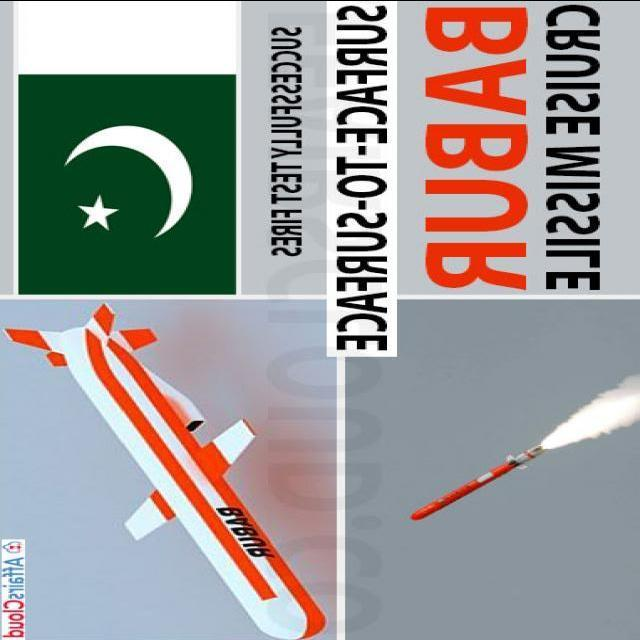Missile: (0, 298, 343, 639), (397, 440, 551, 522)
